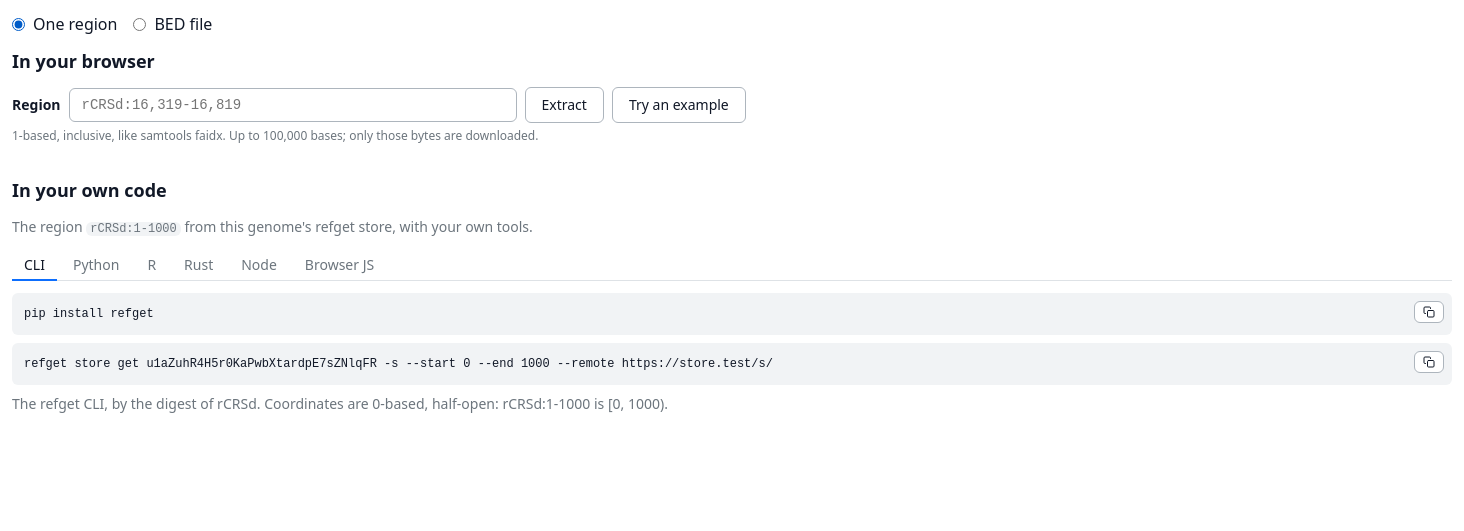
ExtractPanel › extracts a region as FASTA, matching names by alias
Type "NC_012920.1:2-9" into the field labelled "Region". click: (292, 105)
box: [68, 88, 516, 122]
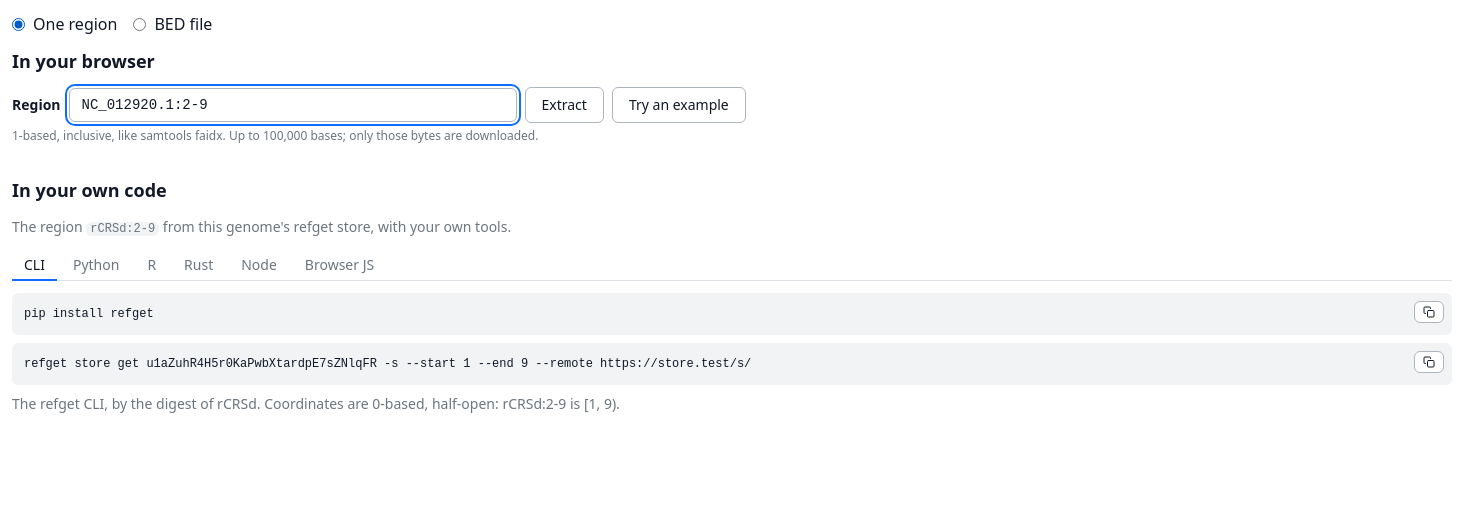
Click the button "Extract". click: (564, 105)
box: [524, 87, 604, 122]
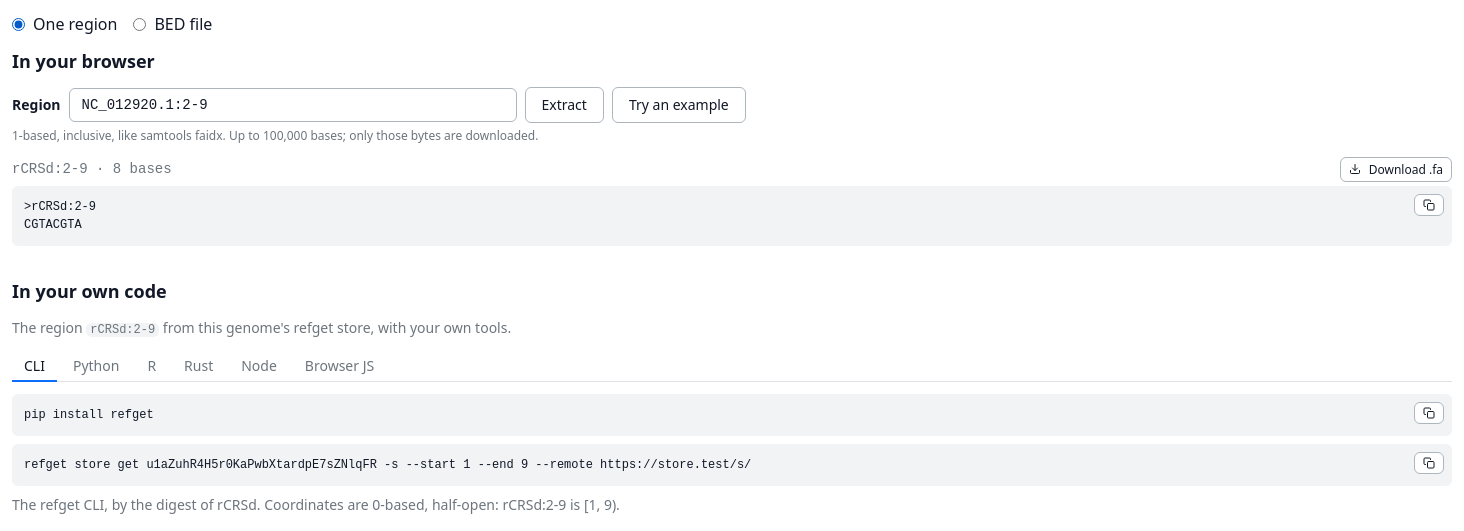
Expected: the text ">rCRSd:2-9 CGTACGTA" is shown, [12, 186, 1452, 246]
Expected: the text "rCRSd:2-9 · 8 bases" is shown, [12, 158, 172, 180]
Expected: the button named "Copy the FASTA" is shown, [1414, 194, 1444, 216]
